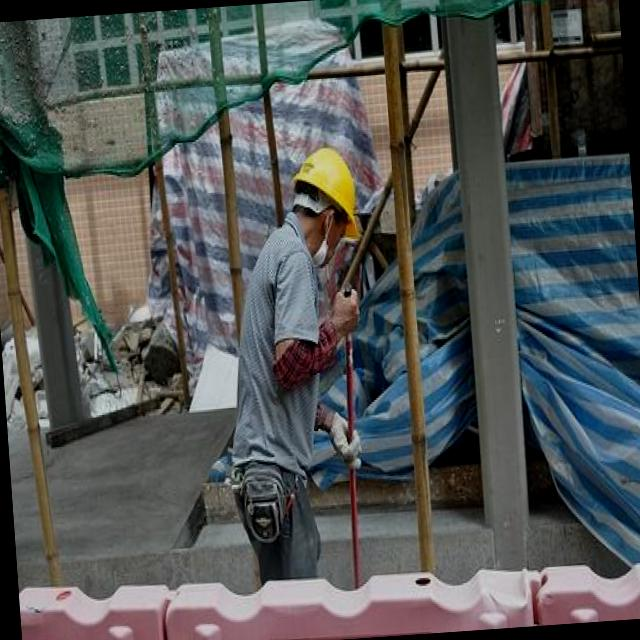helmet: (290, 144, 360, 239)
no-vest: (229, 211, 328, 484)
